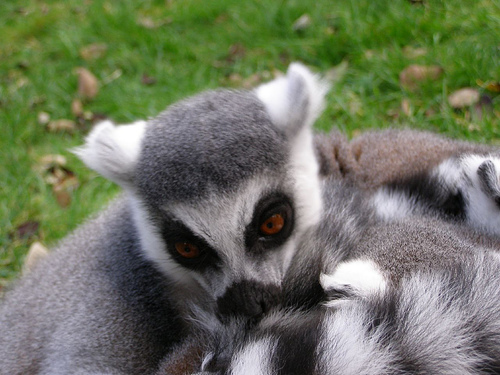cat: (0, 61, 499, 374)
